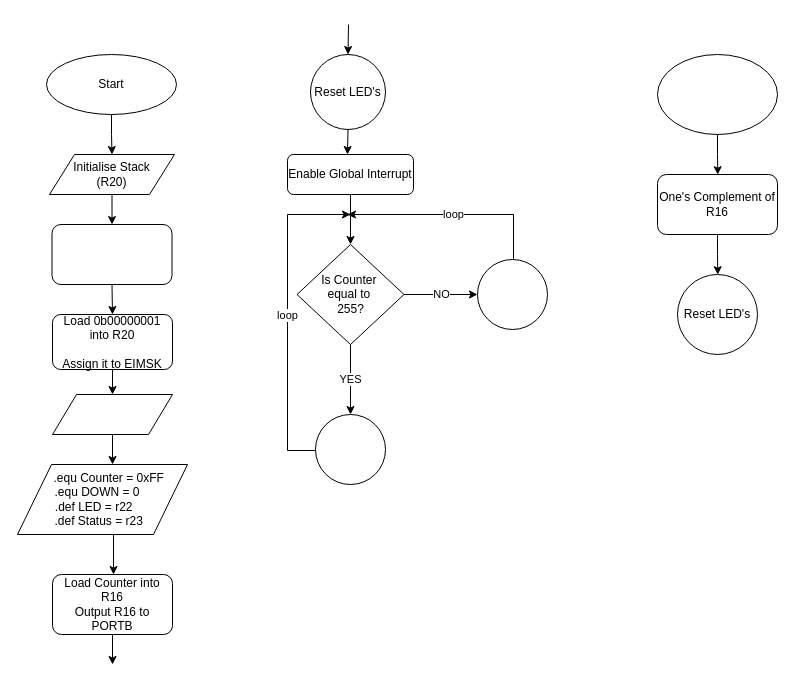
Some shapes in this 795 by 690 pixel diagram are drawn without their labels. Here are the shapes that lost their labels. From the top down, the centre of each, then its label:
the point at 717,94: Interrupt
the point at 111,254: Load 0b00000010 into R20 Assign it to EICRA
the point at 512,294: Ring Counter
the point at 112,414: PORTB ouput PORTD input
the point at 350,449: Johnson Counter
